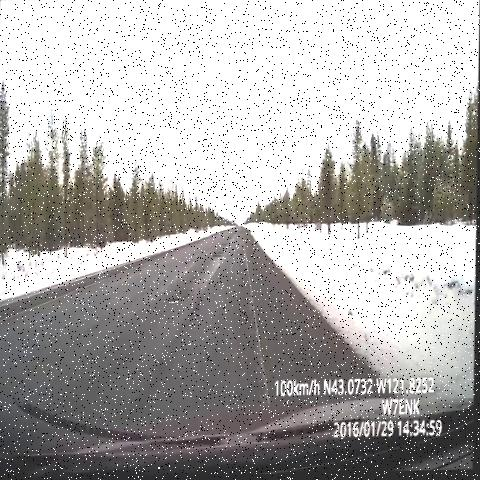pothole: (163, 291, 189, 310), (211, 247, 228, 264), (189, 272, 205, 290), (219, 237, 239, 251)
